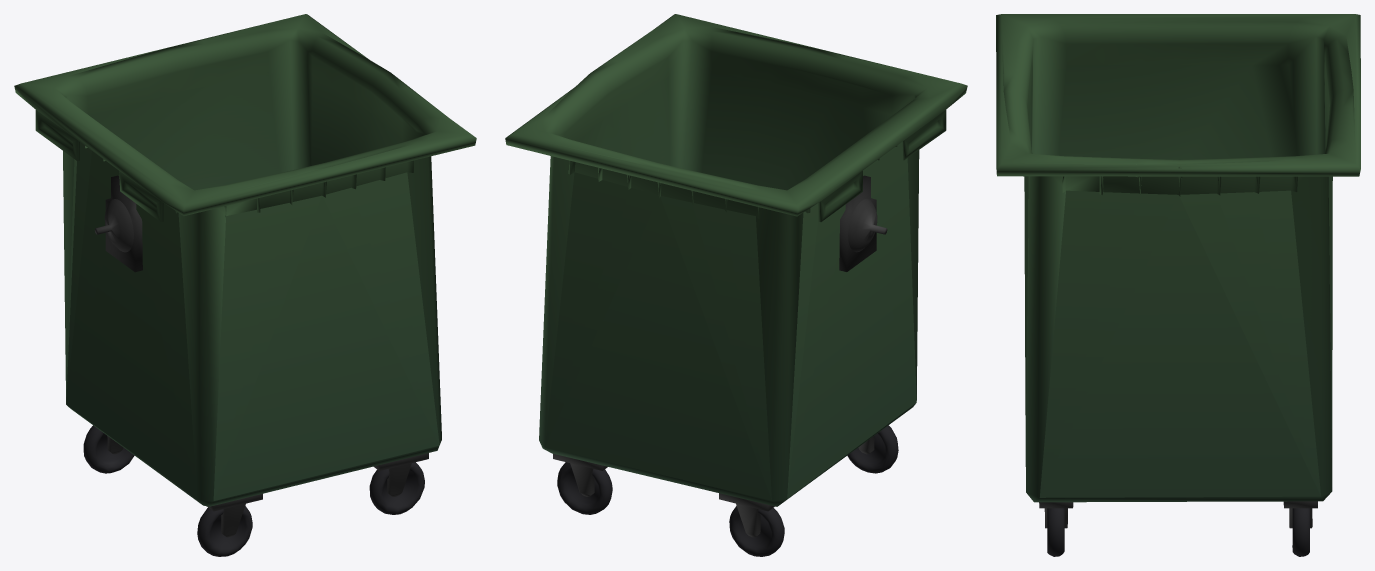
The model's file is trash can.fbx.
3 renders of one model, left to right at view 1: azimuth 30°, elevation 25°; view 2: azimuth 150°, elevation 25°; view 3: azimuth 270°, elevation 25°, orthographic. The views are drawn at different scales.
Parts seen in each view (by area): view 1: Cube.056; view 2: Cube.056; view 3: Cube.056.
Part boxes in pixels (x1,y1,x2,y2): Cube.056: (14, 14, 476, 556); Cube.056: (505, 14, 967, 556); Cube.056: (996, 14, 1360, 556).
Size of the model in its own units: 288 by 359 by 286.
